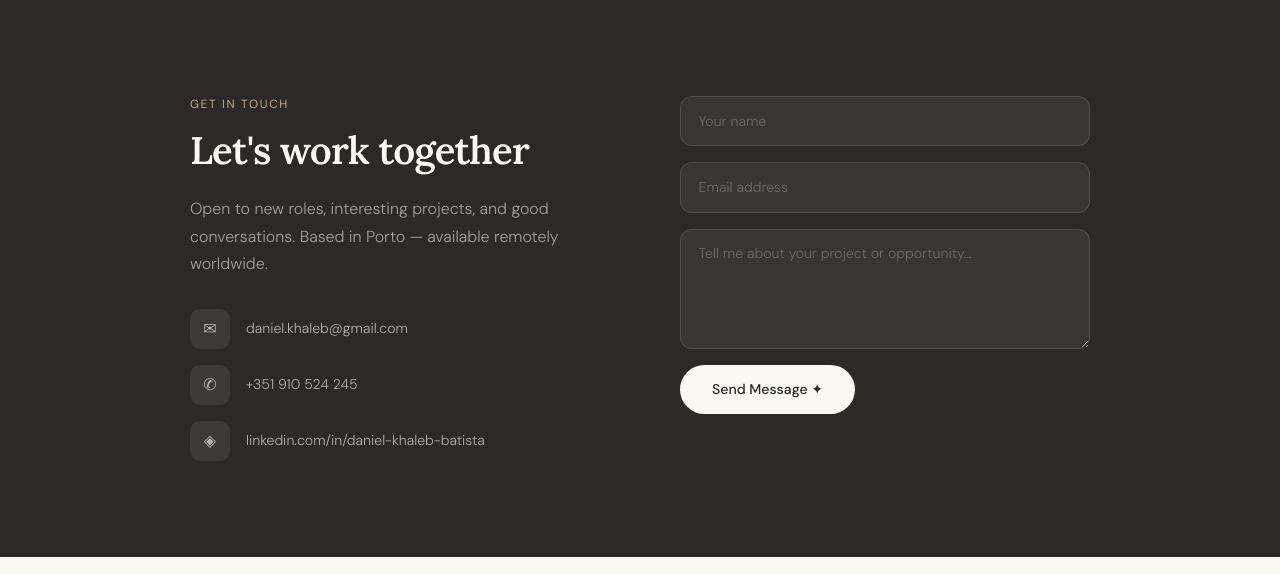
Test case: Contact › shows error message on failed submission
Type "John" into the field with placeholder "Your name" at (885, 121), box [680,96,1090,146]
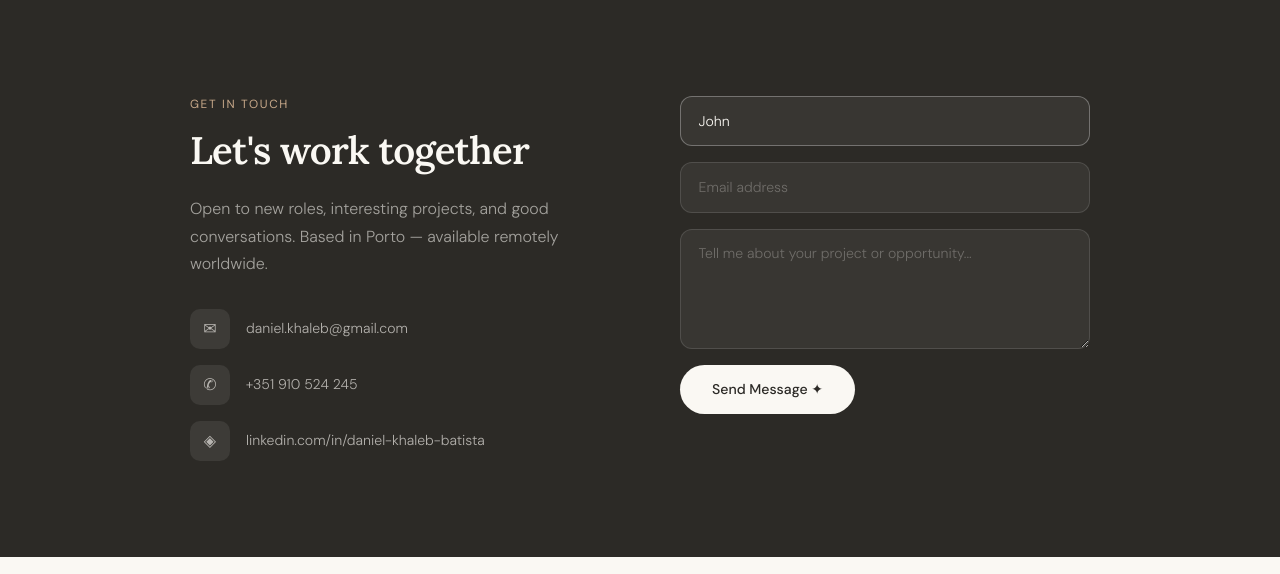
Type "john@example.com" into the field with placeholder "Email address" at (885, 187), box [680,162,1090,213]
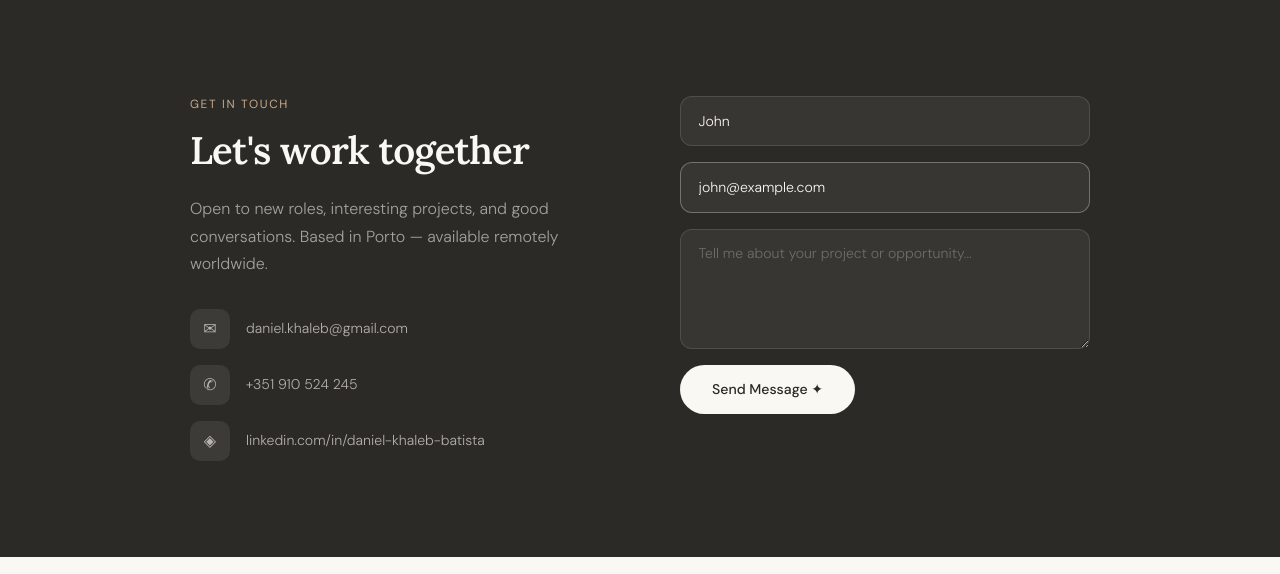
Type "Hello!" into the text box with placeholder "Tell me about your project or opportunity..." at (885, 289), box [680,229,1090,349]
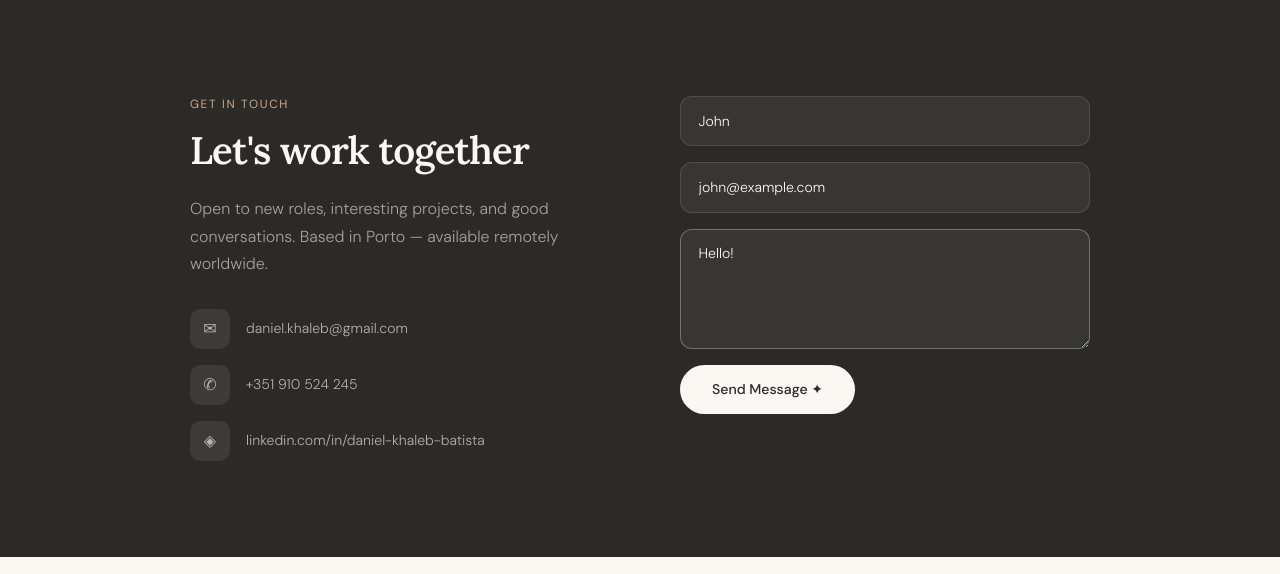
Click the button "Send Message ✦" at (768, 390), box [680,365,855,414]
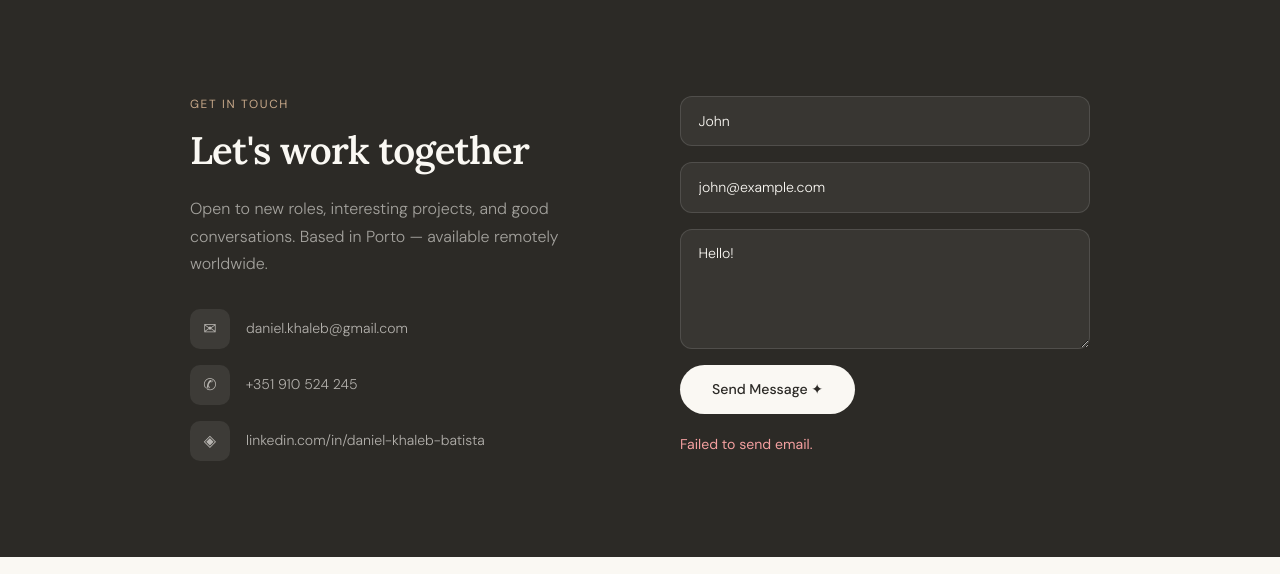
Expected: the text "Failed to send email." is shown, [680,436,812,454]
